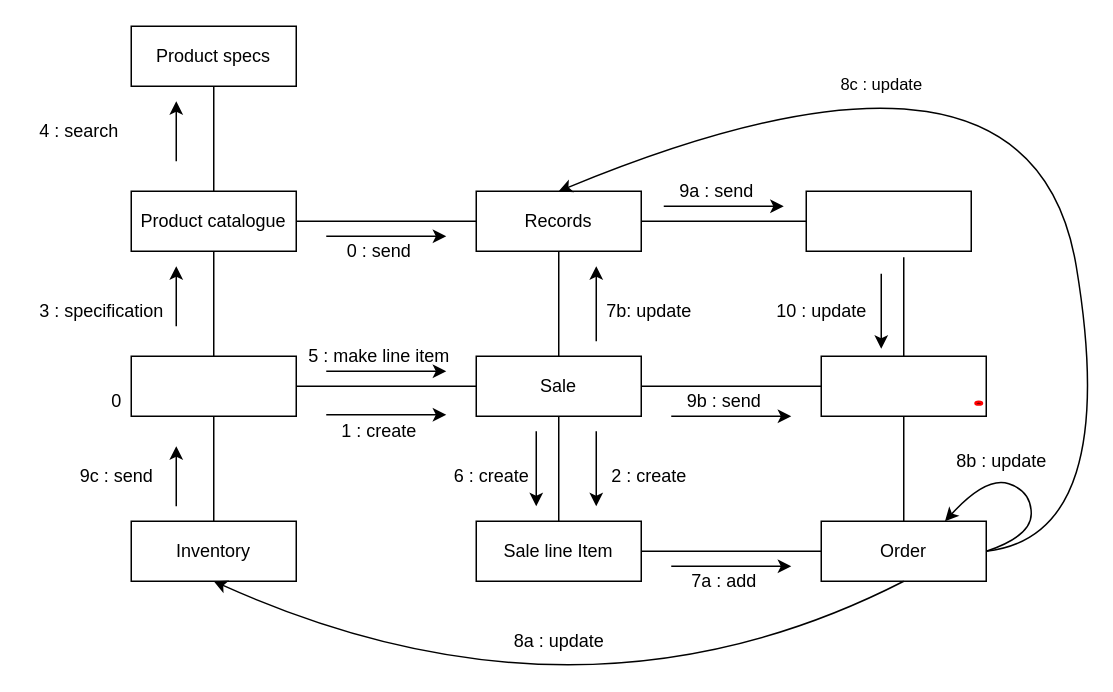
This 1113x692 diagram has some shape labels left out. The shapes that lost their labels are listed below. From the top down, each one's centre as x and y in pixels, then its label:
the point at 888,220: Statistics
the point at 213,385: Display
the point at 903,385: Predict
